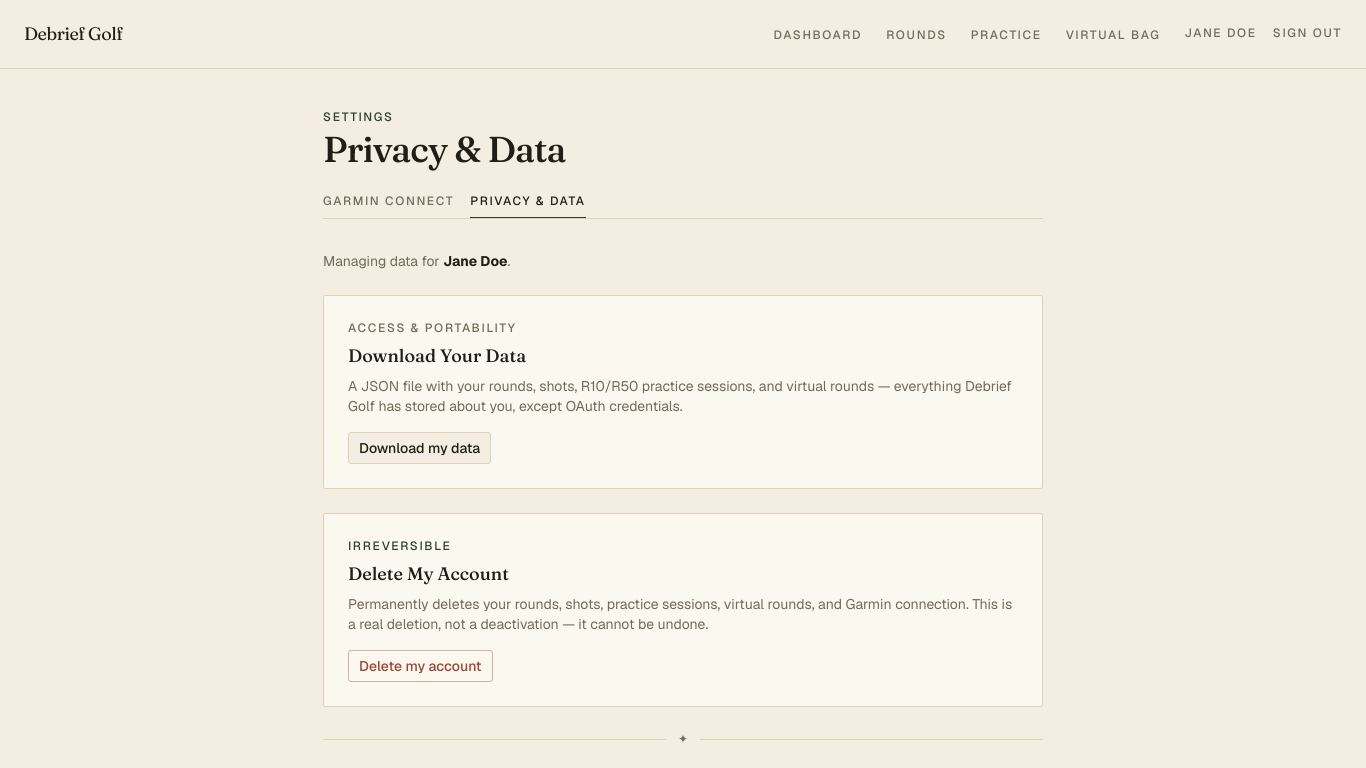
PrivacySettingsPage › deletes the account, signs out, and shows confirmation
Click the button "Delete my account" at (420, 666), box [348,650,493,682]
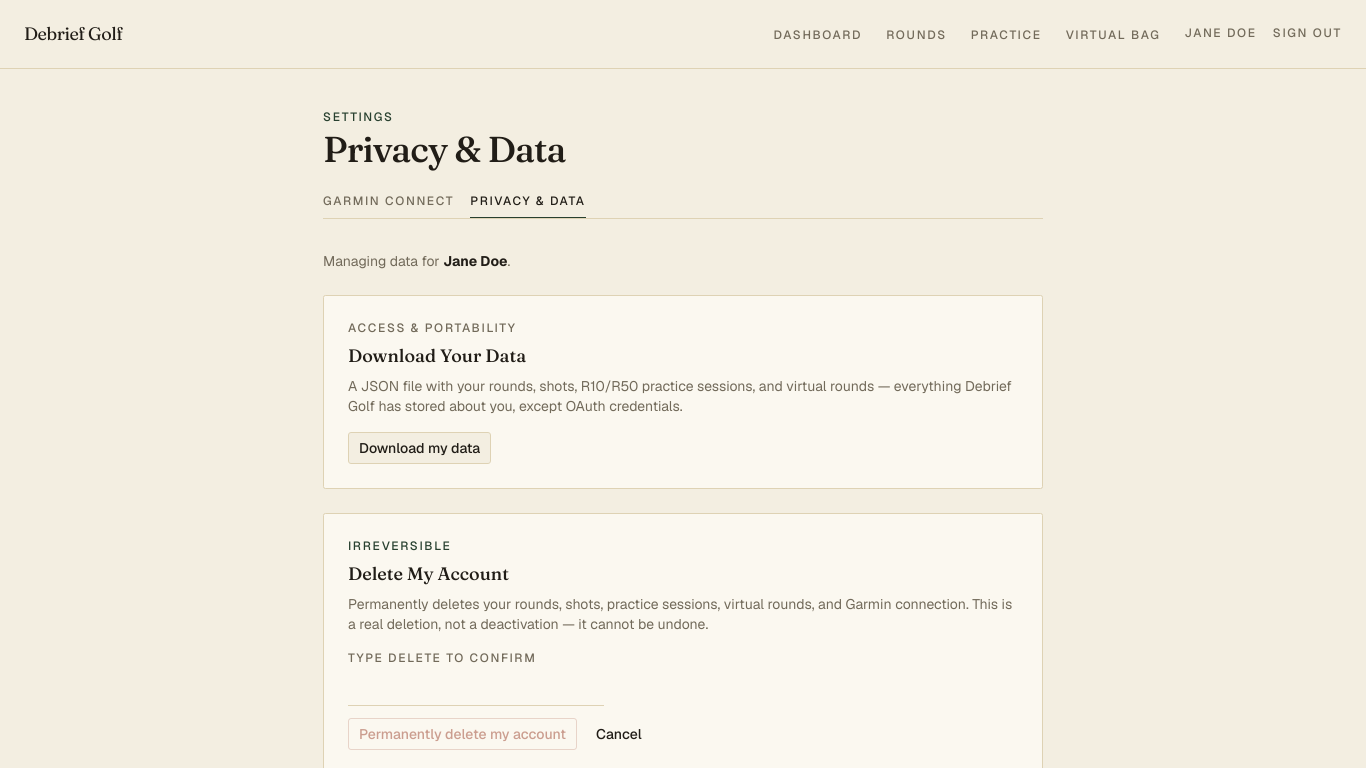
Type "DELETE" into the field labelled "Type DELETE to confirm" at (476, 688), box [348,670,604,706]
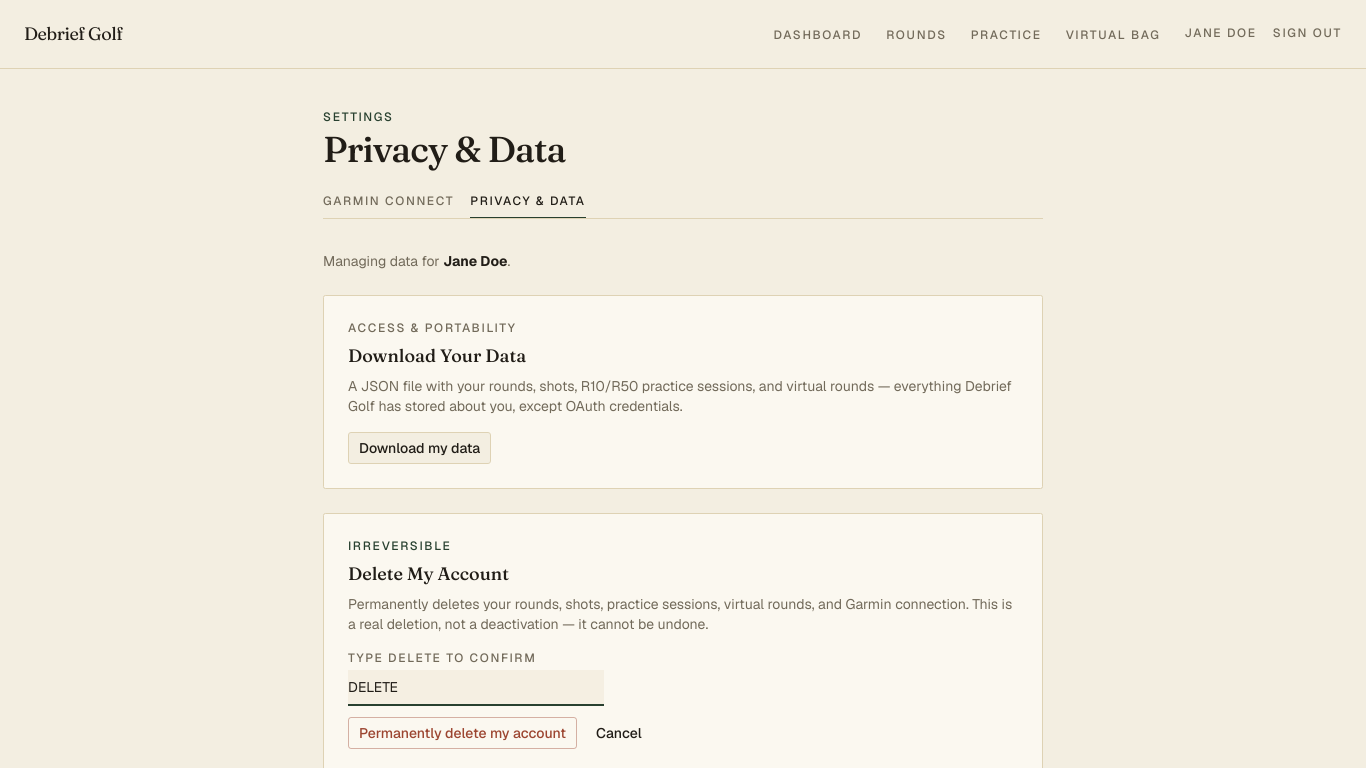
Click the button "Permanently delete my account" at (463, 733), box [348,717,577,749]
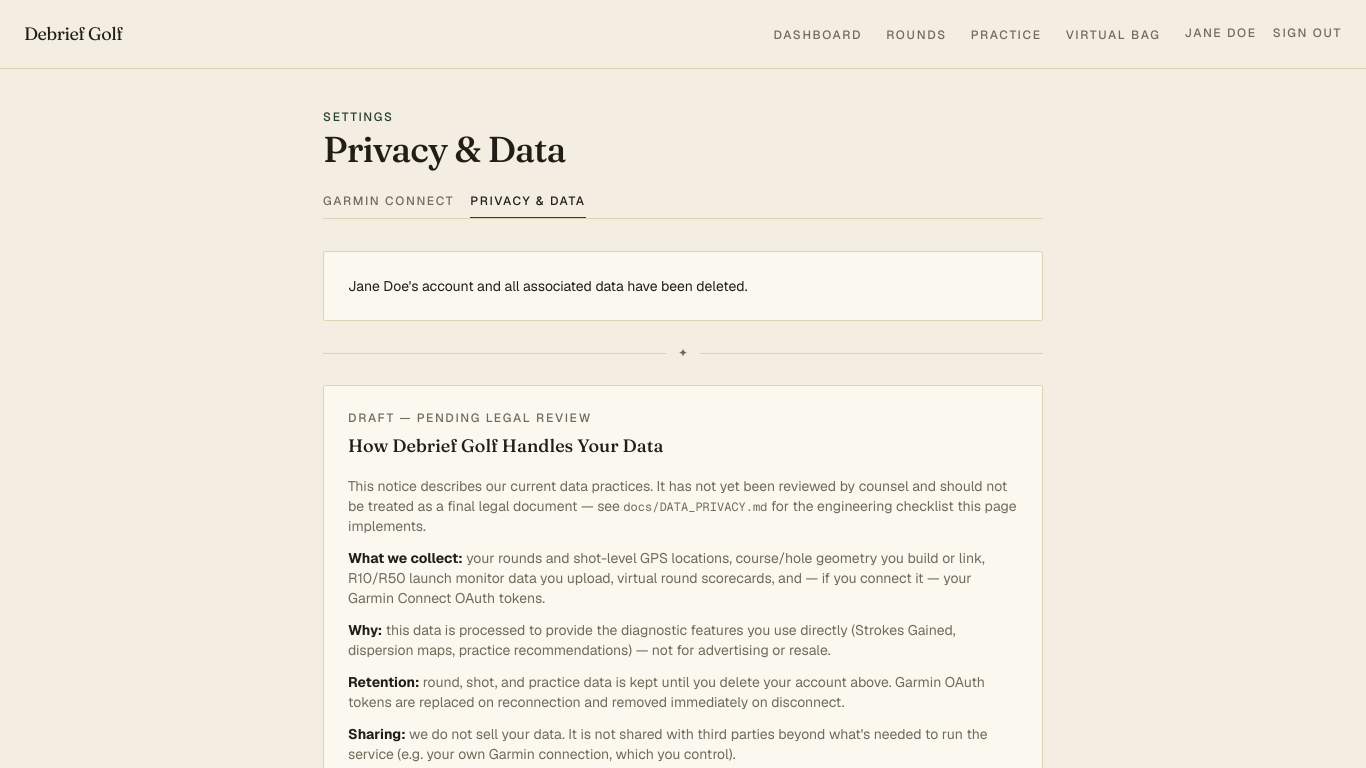
Expected: the message shows "have been deleted", [409,277,748,295]
